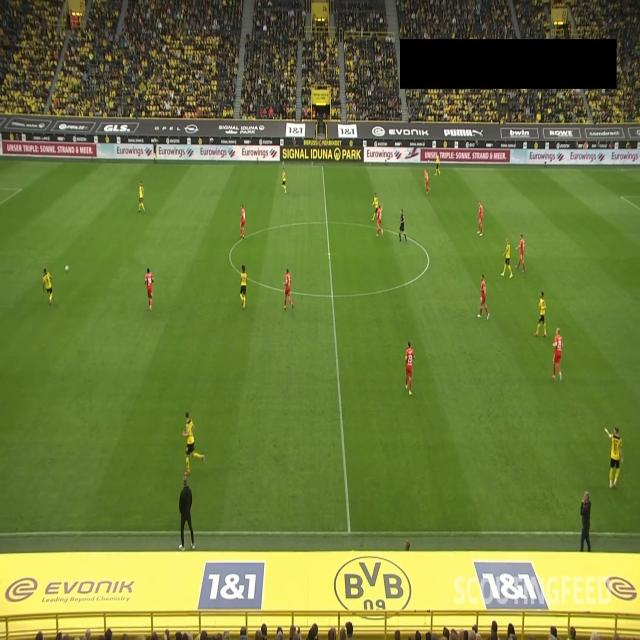ball: (64, 264, 69, 272)
